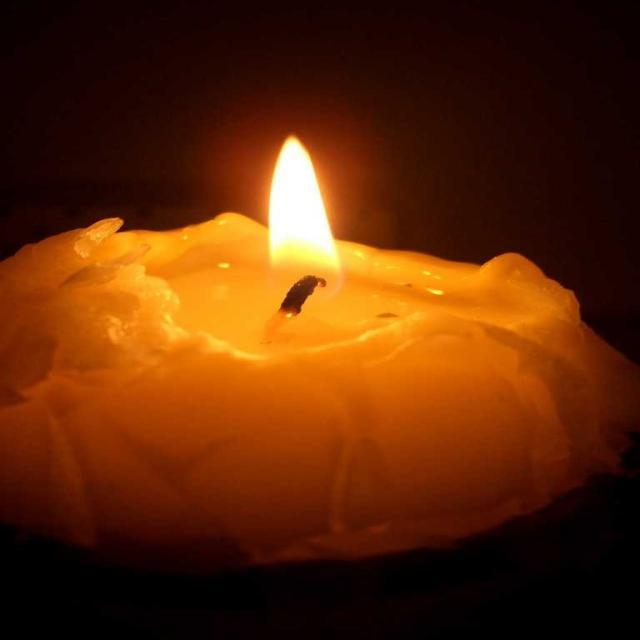Fire: (254, 124, 362, 302)
